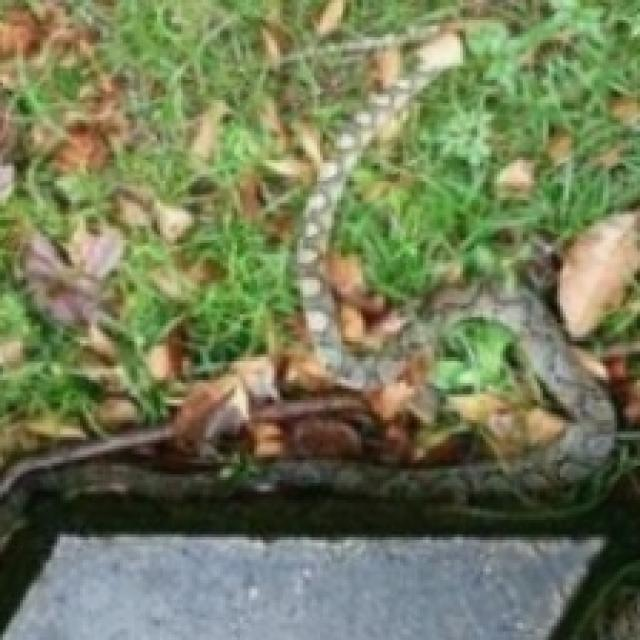reticulated python: (36, 29, 618, 504)
